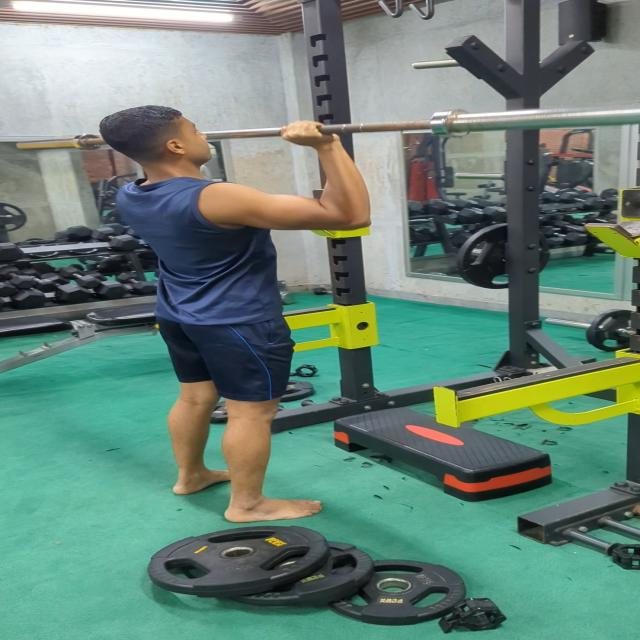Normal_OverheadPress: (98, 96, 376, 526)
